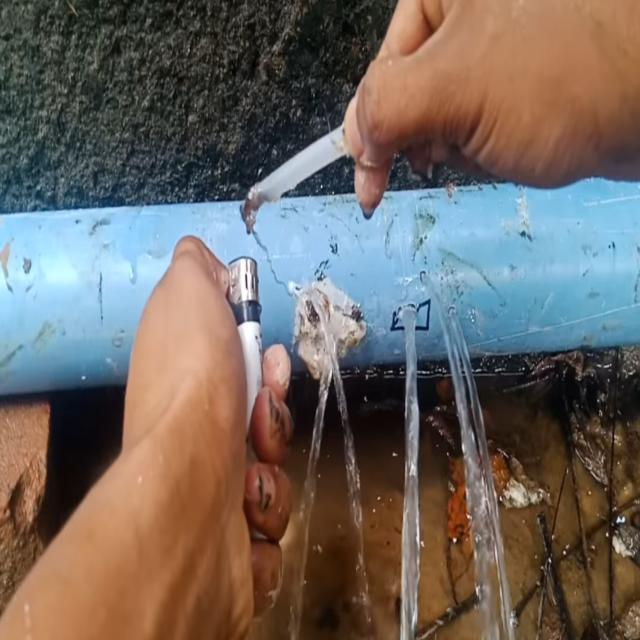leak: (424, 276, 514, 640), (291, 278, 366, 637), (241, 126, 349, 232), (400, 304, 420, 640)
